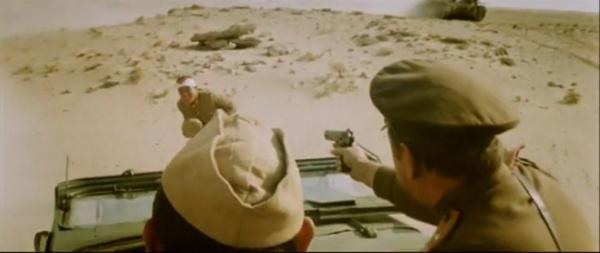Gun: (324, 130, 355, 173)
